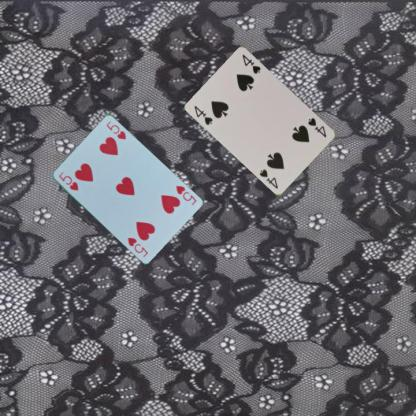4s: (306, 115, 328, 139), (192, 103, 214, 126)
5h: (173, 183, 197, 206), (56, 169, 79, 192)
